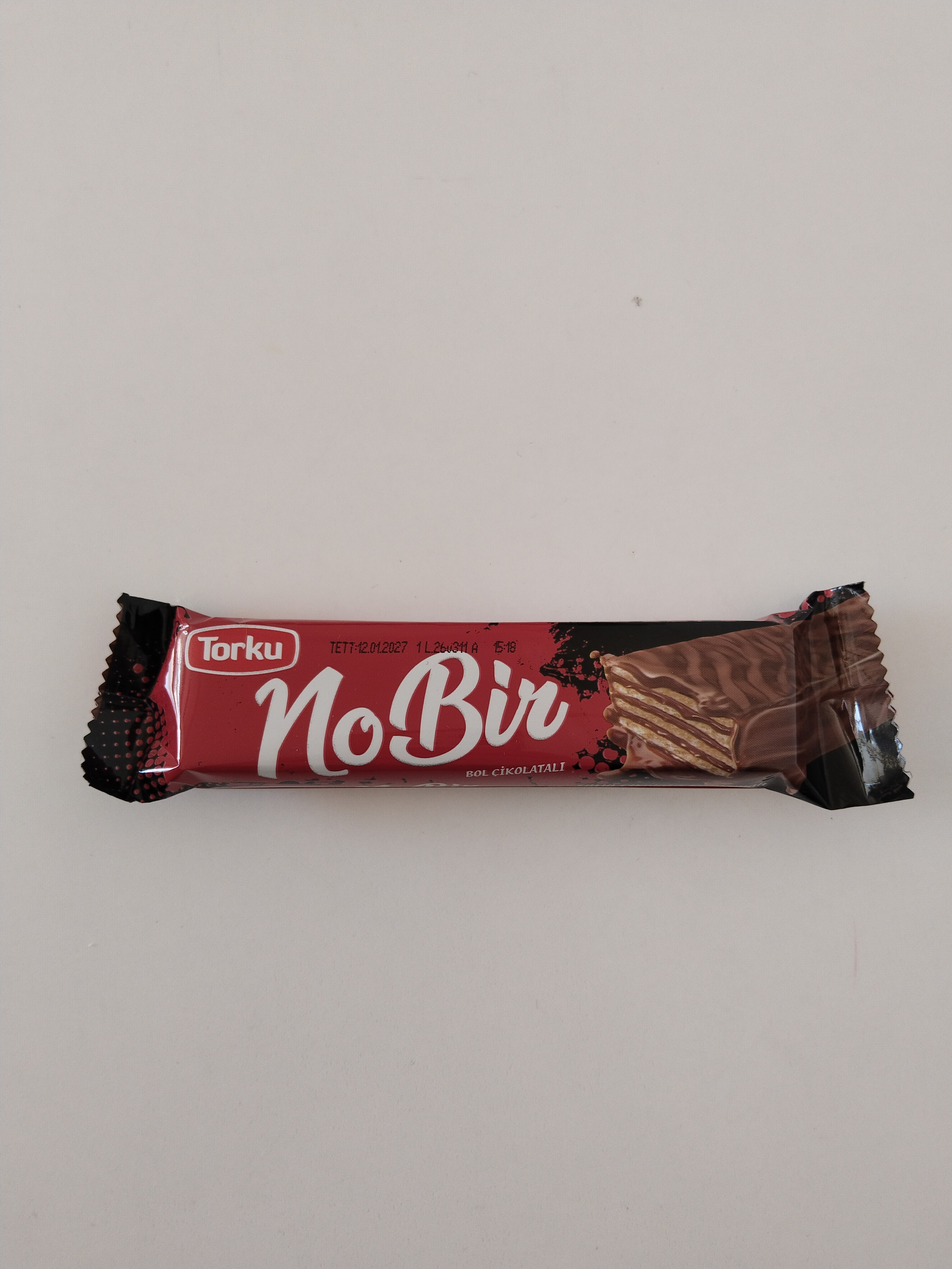pensan_siyah_tukenmez_kalem: (83, 582, 912, 809)
